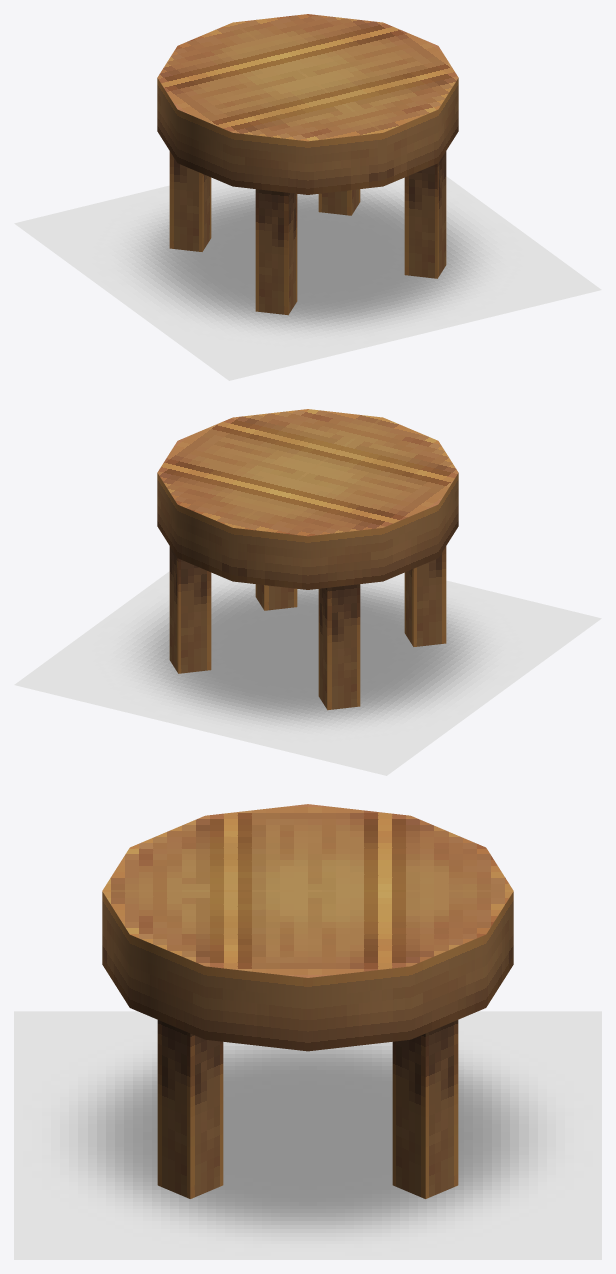
The model's file is Wooden Chair.fbx.
3 renders of one model, top to bottom at view 1: azimuth 30°, elevation 25°; view 2: azimuth 150°, elevation 25°; view 3: azimuth 270°, elevation 25°, orthographic. The views are drawn at different scales.
Parts seen in each view (by area): view 1: chair, shadow; view 2: chair, shadow; view 3: shadow, chair.
Boxes of the visible parts, x1=… form: chair: x1=157, y1=14, x2=458, y2=315; shadow: x1=14, y1=176, x2=601, y2=380; chair: x1=157, y1=409, x2=458, y2=710; shadow: x1=14, y1=571, x2=601, y2=775; shadow: x1=14, y1=1011, x2=601, y2=1259; chair: x1=102, y1=804, x2=513, y2=1198.
Bounding box in the file's own units: 0.8 × 0.3872 × 0.8.
